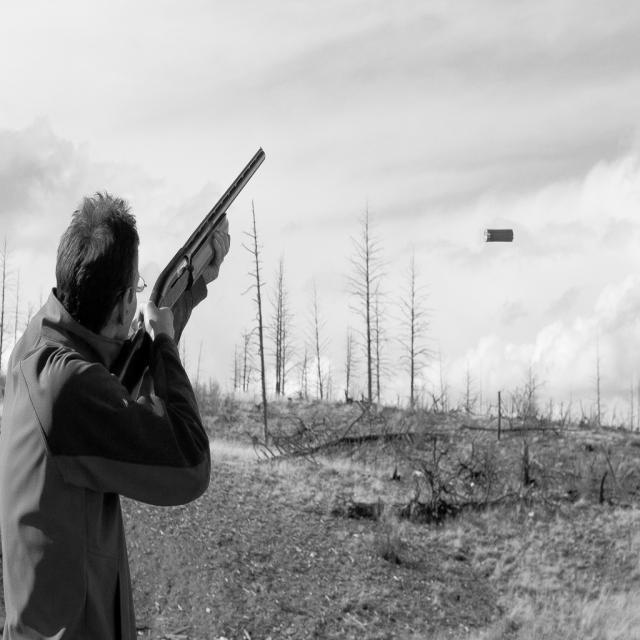weapon: (110, 147, 264, 411)
